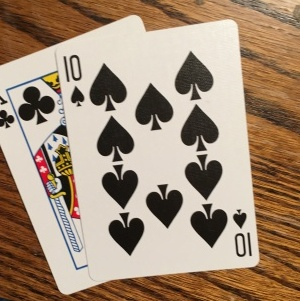card: (53, 20, 265, 281)
